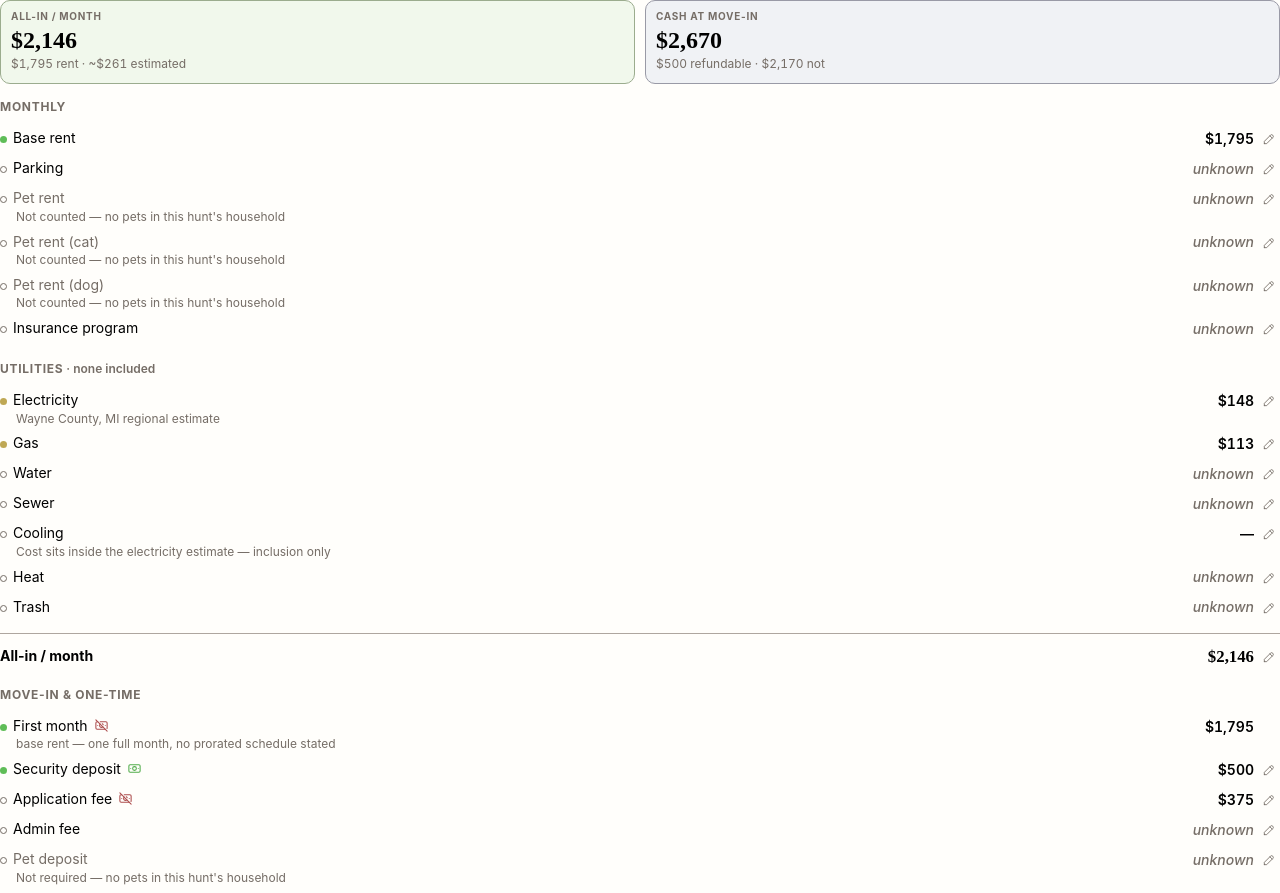
Scenario: CostAndFees › offers required / refundable / credited decisions on a one-time charge
Click the button named "edit Application fee": (1269, 800) [1258, 789, 1279, 811]
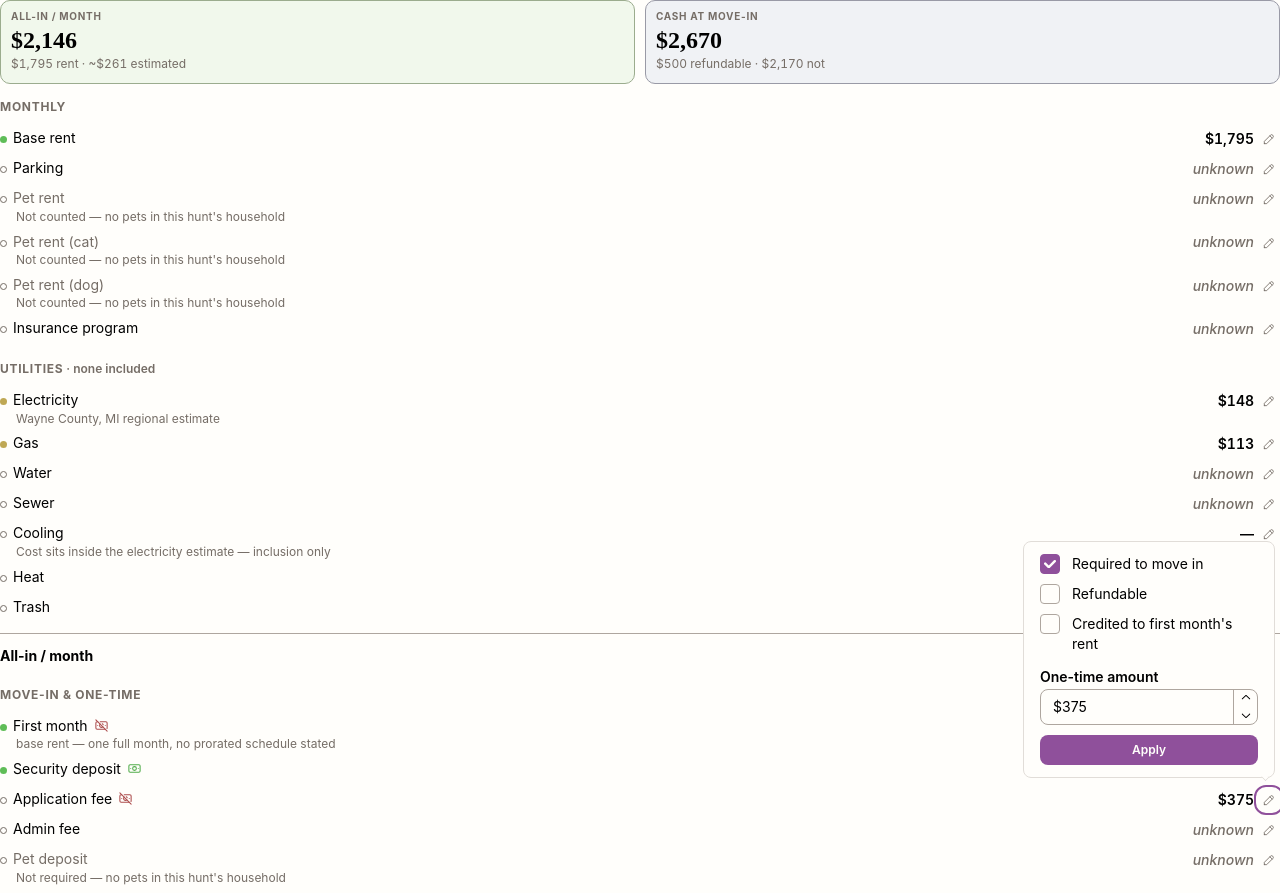
Check: the checkbox labelled "Required to move in" is checked, box [1040, 554, 1060, 574]
Check: the checkbox labelled "Refundable" is shown, box [1040, 584, 1060, 604]
Check: the checkbox labelled "Credited to first month's rent" is not checked
Click the checkbox labelled "Credited to first month's rent": (1050, 624) [1040, 614, 1060, 634]
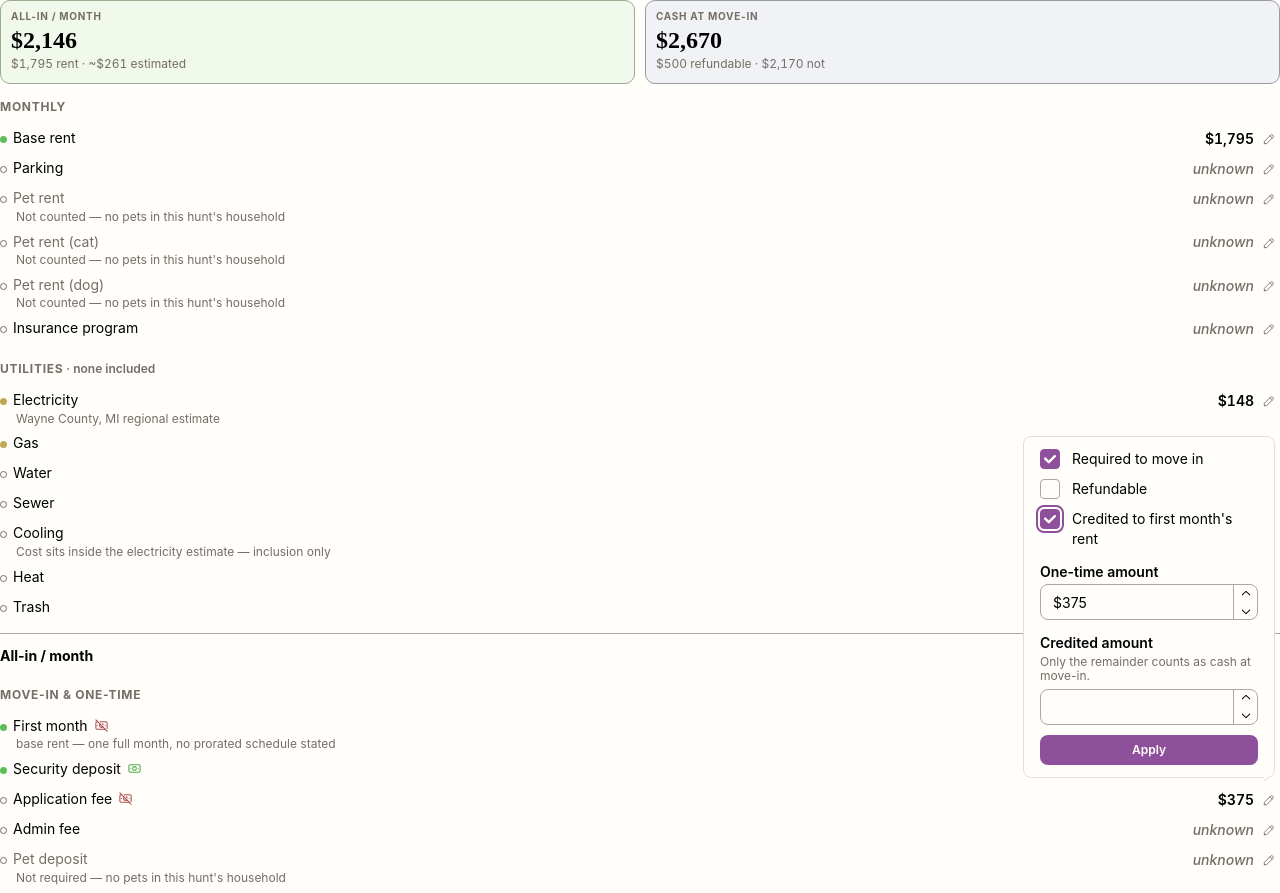
Check: the field labelled "Credited amount" is shown, box [1040, 689, 1258, 725]
